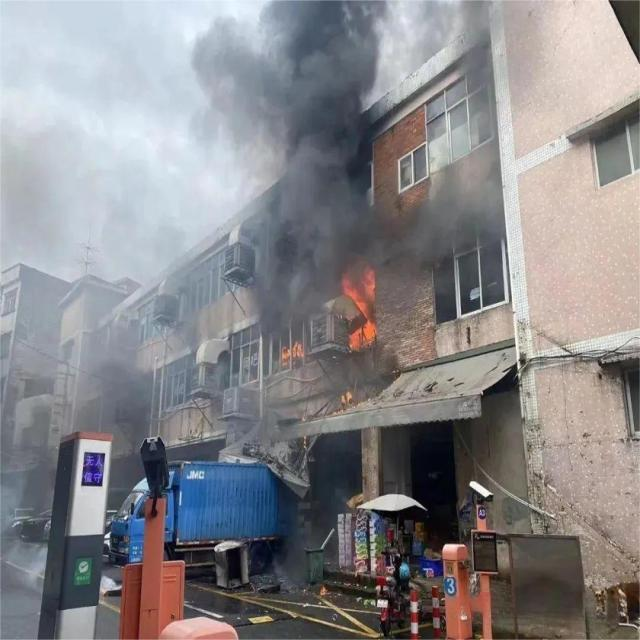Fire: (337, 260, 380, 348)
Smoke: (190, 0, 394, 255)
